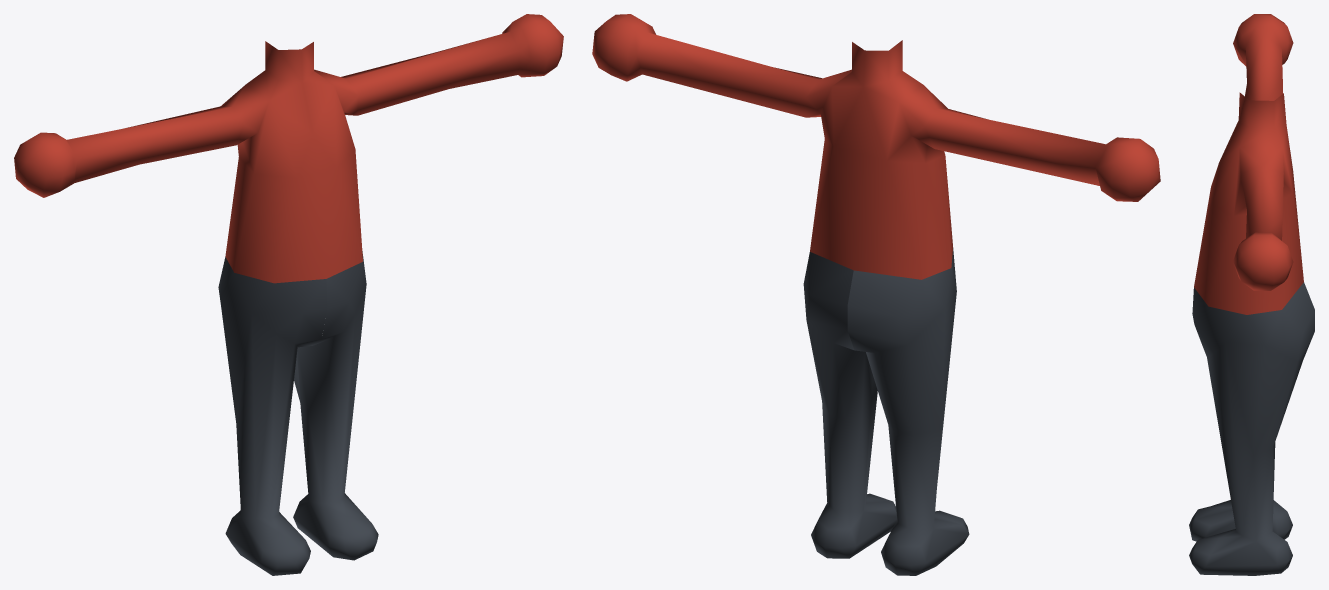
The model's file is Male2.gltf.
The picture shows the model from 3 angles, left to right: view 1: azimuth 30°, elevation 25°; view 2: azimuth 150°, elevation 25°; view 3: azimuth 270°, elevation 25°; orthographic projection. The views are drawn at different scales.
Parts seen in each view (by area): view 1: シャツ_Mesh_0002.rip_mesh0000.003, ズボン_Mesh_0002.rip_mesh0000.005, ズボン_Mesh_0002.rip_mesh0000.001; view 2: シャツ_Mesh_0002.rip_mesh0000.003, ズボン_Mesh_0002.rip_mesh0000.005, ズボン_Mesh_0002.rip_mesh0000.001; view 3: シャツ_Mesh_0002.rip_mesh0000.003, ズボン_Mesh_0002.rip_mesh0000.001, ズボン_Mesh_0002.rip_mesh0000.005.
Part boxes in pixels (box(x1,y1,x2,y2)): シャツ_Mesh_0002.rip_mesh0000.003: box(14, 14, 563, 283); ズボン_Mesh_0002.rip_mesh0000.005: box(218, 257, 327, 575); ズボン_Mesh_0002.rip_mesh0000.001: box(293, 251, 378, 560); シャツ_Mesh_0002.rip_mesh0000.003: box(592, 14, 1160, 279); ズボン_Mesh_0002.rip_mesh0000.005: box(847, 248, 969, 575); ズボン_Mesh_0002.rip_mesh0000.001: box(803, 252, 897, 558); シャツ_Mesh_0002.rip_mesh0000.003: box(1194, 14, 1303, 314); ズボン_Mesh_0002.rip_mesh0000.001: box(1189, 282, 1314, 575); ズボン_Mesh_0002.rip_mesh0000.005: box(1189, 500, 1292, 541).
Size of the model in its own units: 1.42 by 1.25 by 0.3101.
Materials: 2 (2 with a texture image).
